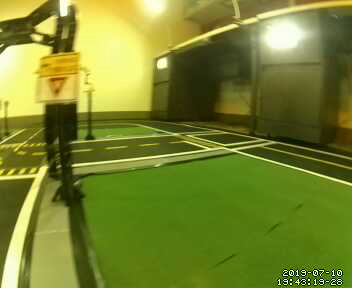Turn Yield: (38, 55, 83, 107)
